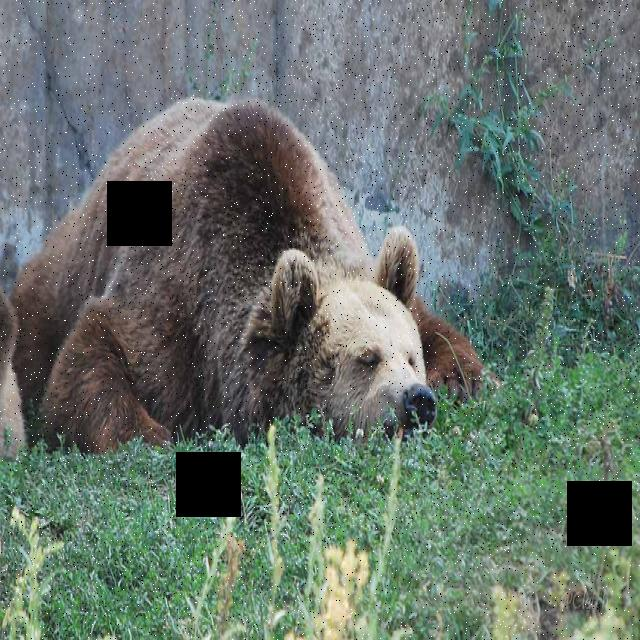Bear: (8, 82, 489, 452)
